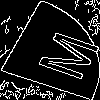M: (24, 25, 100, 82)
